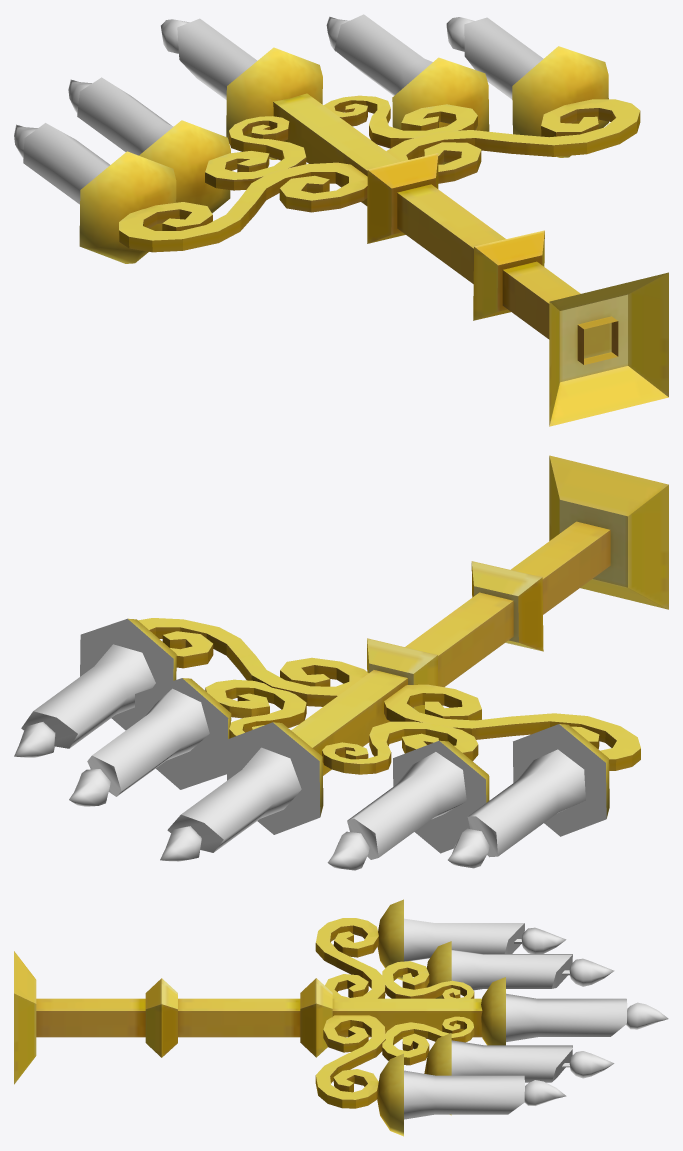
Rendered from Candelabra.fbx.
3 renders of one model, top to bottom at view 1: azimuth 30°, elevation 25°; view 2: azimuth 150°, elevation 25°; view 3: azimuth 270°, elevation 25°, orthographic. The views are drawn at different scales.
Visible parts, largest first — view 1: candelabra, candelabraCandles; view 2: candelabra, candelabraCandles; view 3: candelabra, candelabraCandles.
Part boxes in pixels (left/top/right/bottom): candelabra: left=79, top=46, right=668, bottom=426; candelabraCandles: left=14, top=14, right=543, bottom=204; candelabra: left=128, top=455, right=668, bottom=818; candelabraCandles: left=14, top=618, right=606, bottom=870; candelabra: left=14, top=899, right=505, bottom=1136; candelabraCandles: left=404, top=918, right=668, bottom=1119.
Bounding box in the file's own units: 136 × 32.69 × 199.
